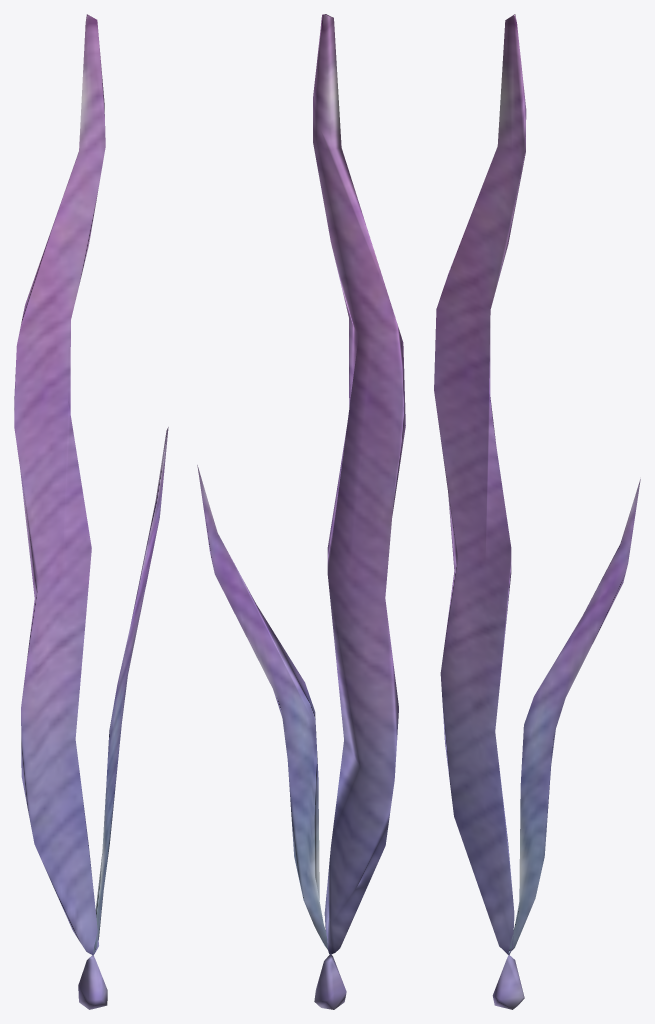
Rendered from reed.glb.
3 renders of one model, left to right at view 1: azimuth 30°, elevation 25°; view 2: azimuth 150°, elevation 25°; view 3: azimuth 330°, elevation 25°, orthographic.
Parts seen in each view (by area): view 1: reed; view 2: reed; view 3: reed.
Boxes of the visible parts, x1=… form: reed: x1=14, y1=14, x2=168, y2=1009; reed: x1=197, y1=14, x2=405, y2=1009; reed: x1=434, y1=14, x2=640, y2=1009.
Bounding box in the file's own units: 0.2454 × 1.28 × 0.0875.
Materials: 1 (1 with a texture image).
